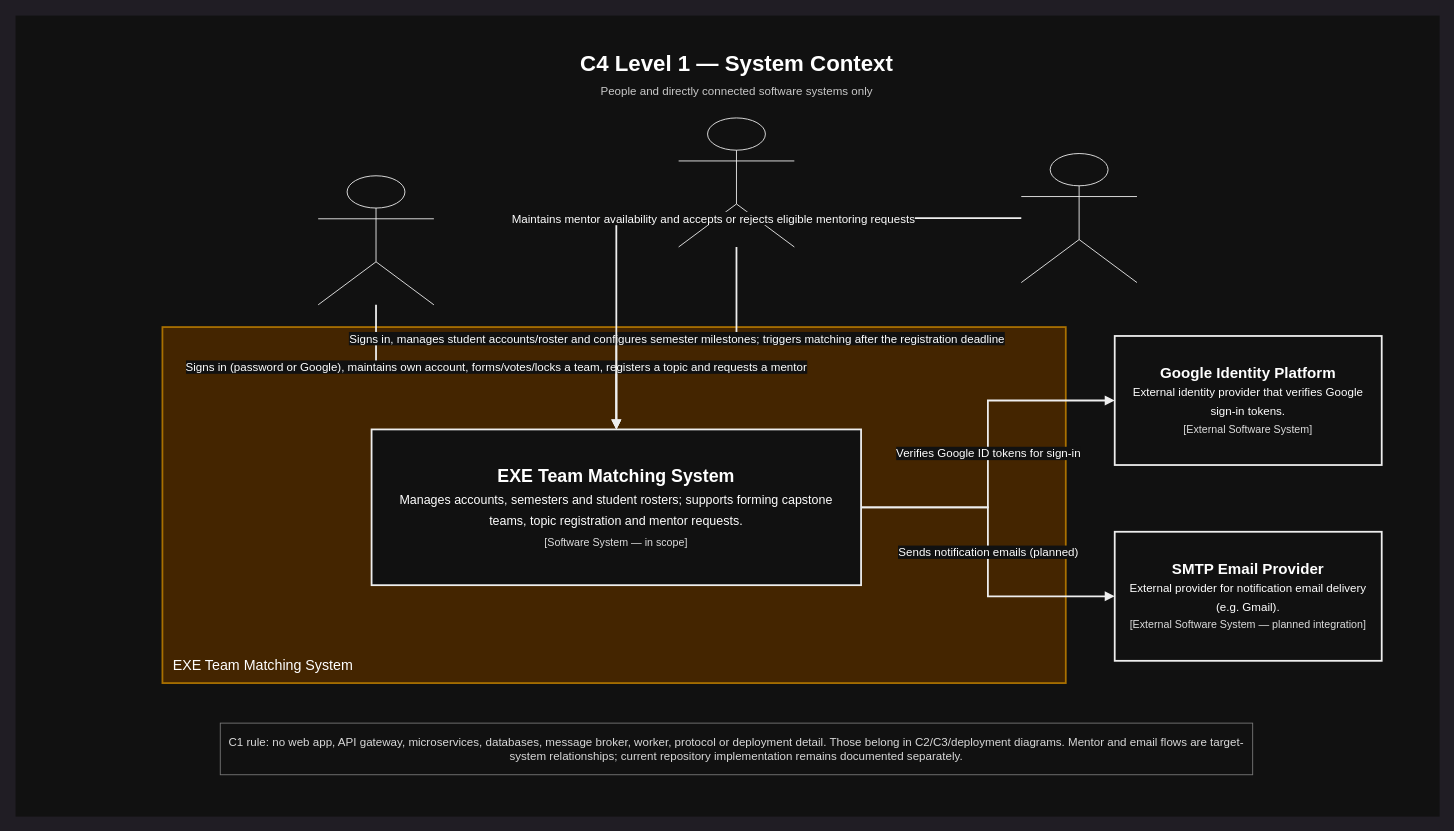
Image size: 1454x831. Some labels were removed from this diagram. The shapes that lost their labels are listed below. From the top down, each one's centre as x and y in pixels, then its label:
point 736,182: Administrator Academic-system administrator
point 1078,218: Mentor Academic project mentor
point 375,240: Student Capstone student
